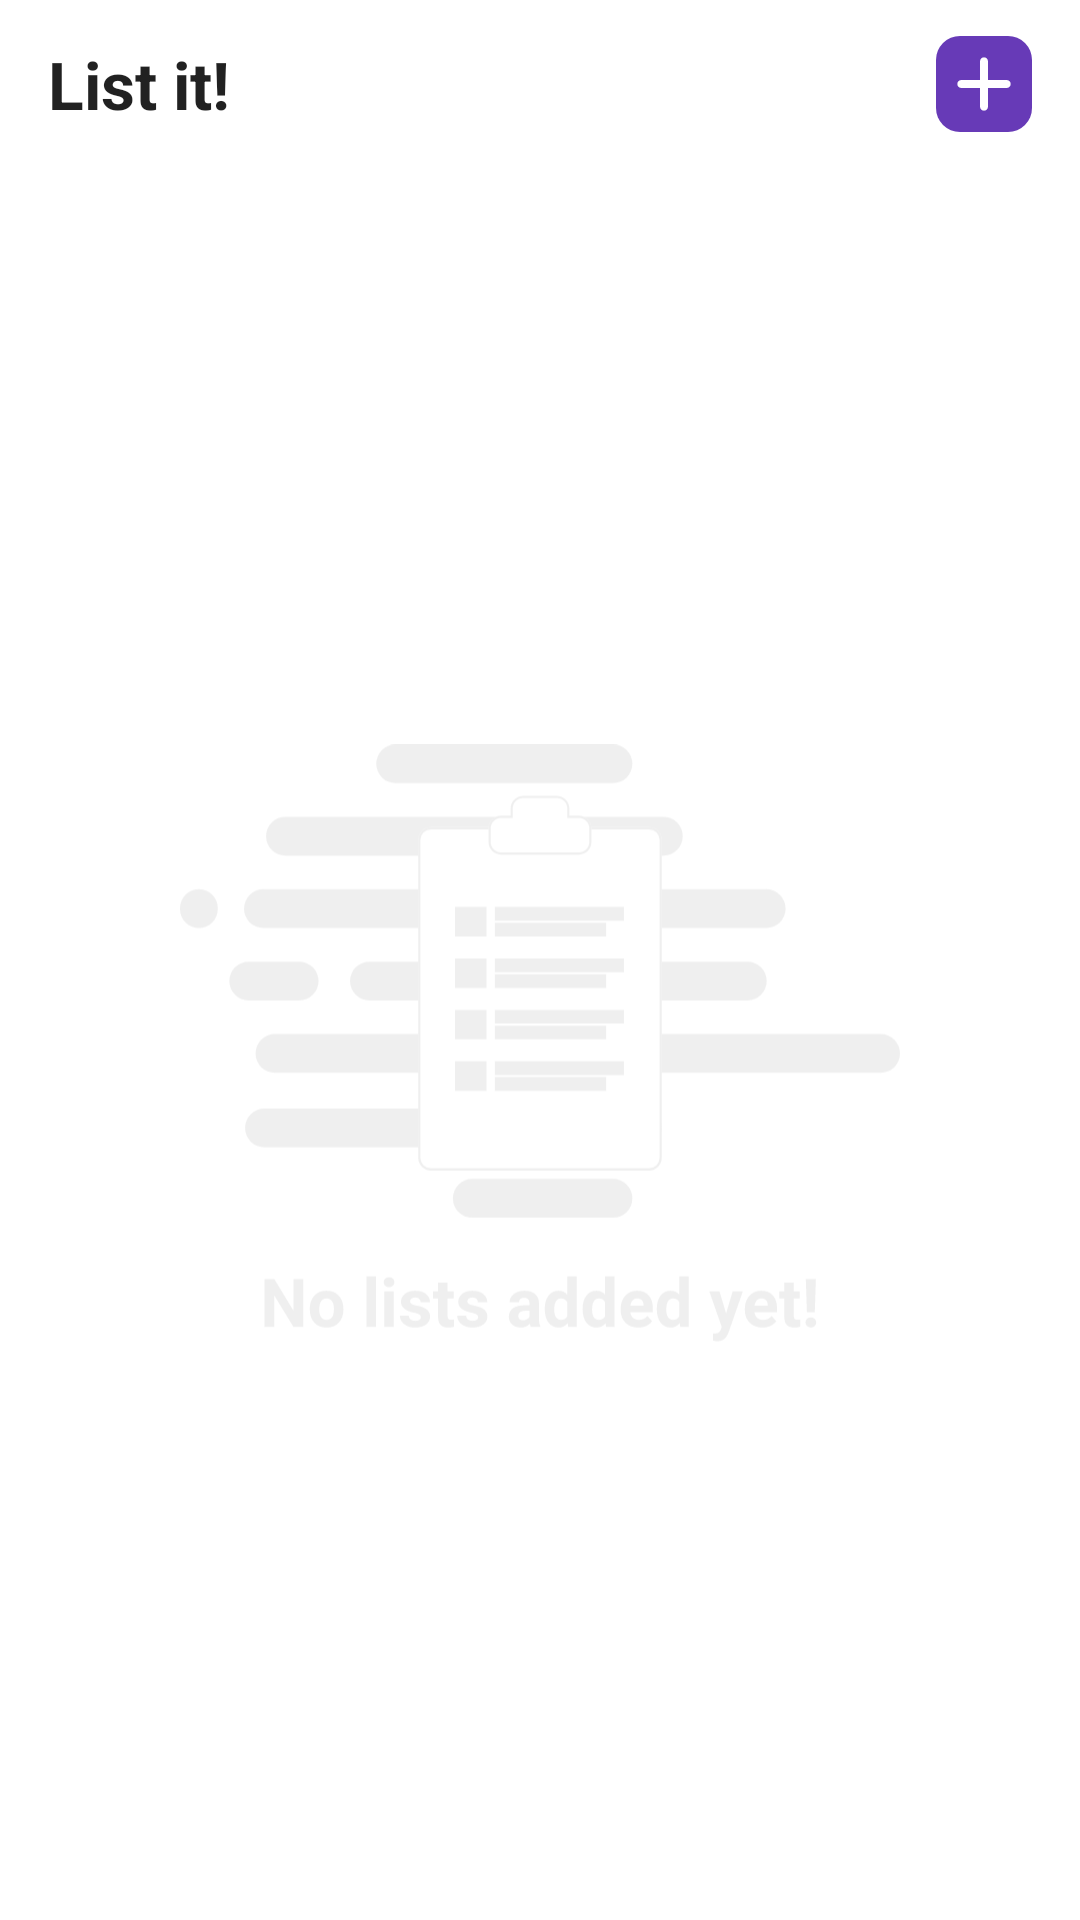

Icons on this 1080×1920 Android screen, each with the point to tap as [x,y]:
Add Task Group: [984,84]
